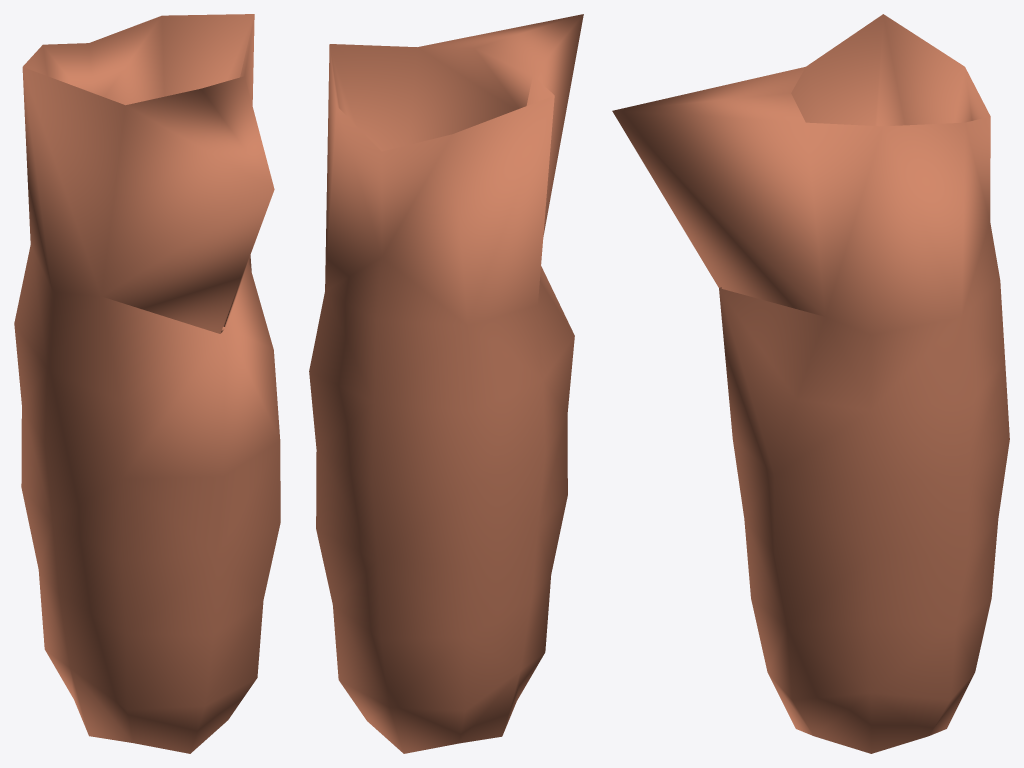
Rendered from upper_leg_left.dae.
The picture shows the model from 3 angles, left to right: view 1: azimuth 30°, elevation 25°; view 2: azimuth 150°, elevation 25°; view 3: azimuth 270°, elevation 25°; orthographic projection. The views are drawn at different scales.
Visible parts, largest first — view 1: Plane; view 2: Plane; view 3: Plane.
Boxes of the visible parts, x1,y1,x2,y2 form: Plane: (14, 14, 280, 753); Plane: (309, 14, 583, 753); Plane: (612, 14, 1009, 753).
Size of the model in its own units: 0.4016 by 0.6202 by 1.16.
